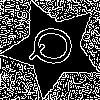Q: (28, 23, 84, 71)
